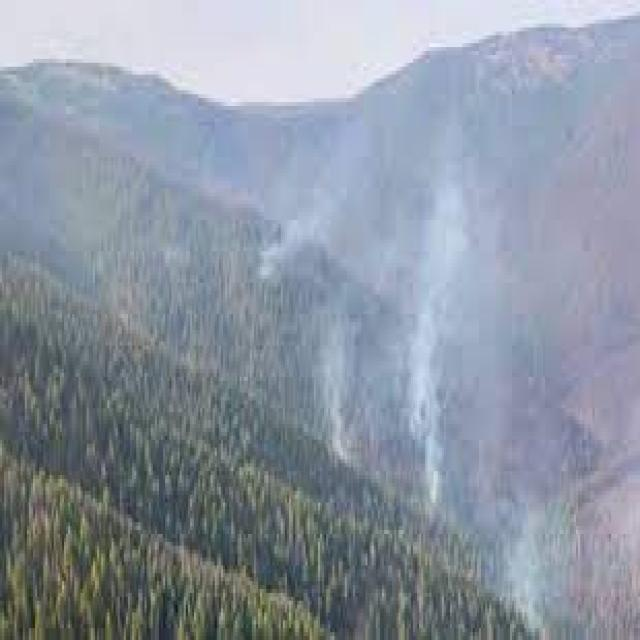Smoke: (401, 221, 455, 528), (319, 320, 356, 476), (244, 214, 318, 288)
